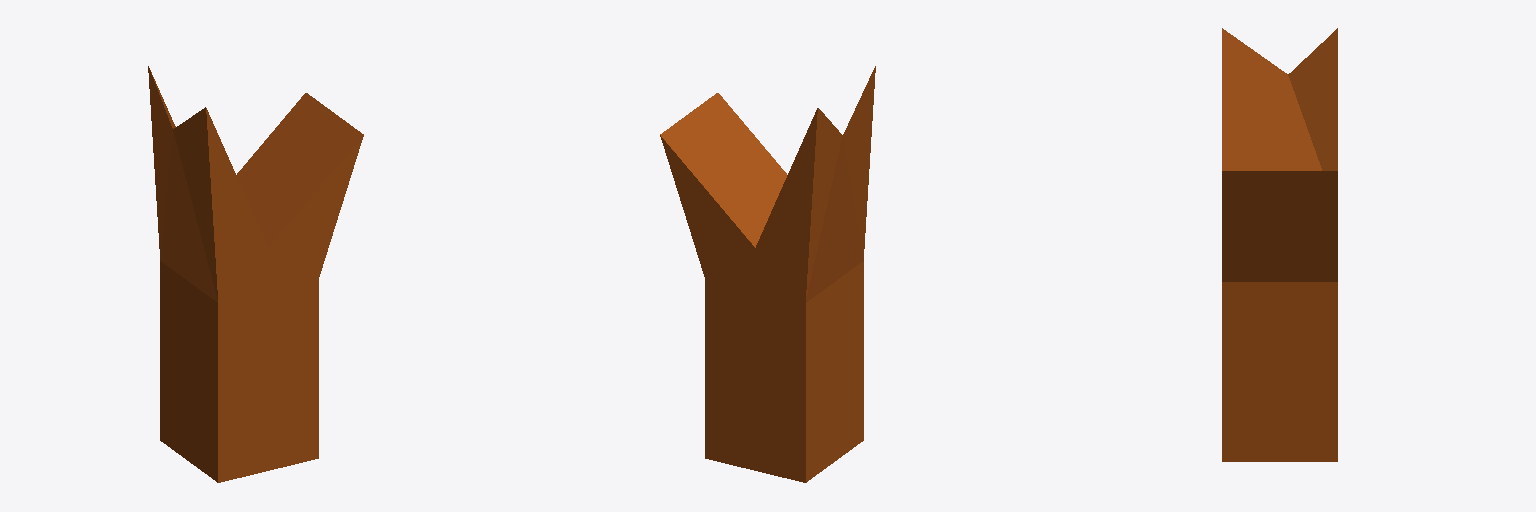
3 renders of one model, left to right at view 1: azimuth 30°, elevation 25°; view 2: azimuth 150°, elevation 25°; view 3: azimuth 270°, elevation 25°, orthographic.
Parts seen in each view (by area): view 1: 立方体; view 2: 立方体; view 3: 立方体.
Part boxes in pixels (bbox=[...]): 立方体: bbox=[148, 66, 363, 482]; 立方体: bbox=[660, 66, 875, 482]; 立方体: bbox=[1222, 28, 1337, 461].
Bounding box in the file's own units: 3.14 × 7.2 × 2.
1 materials, 1 textured.